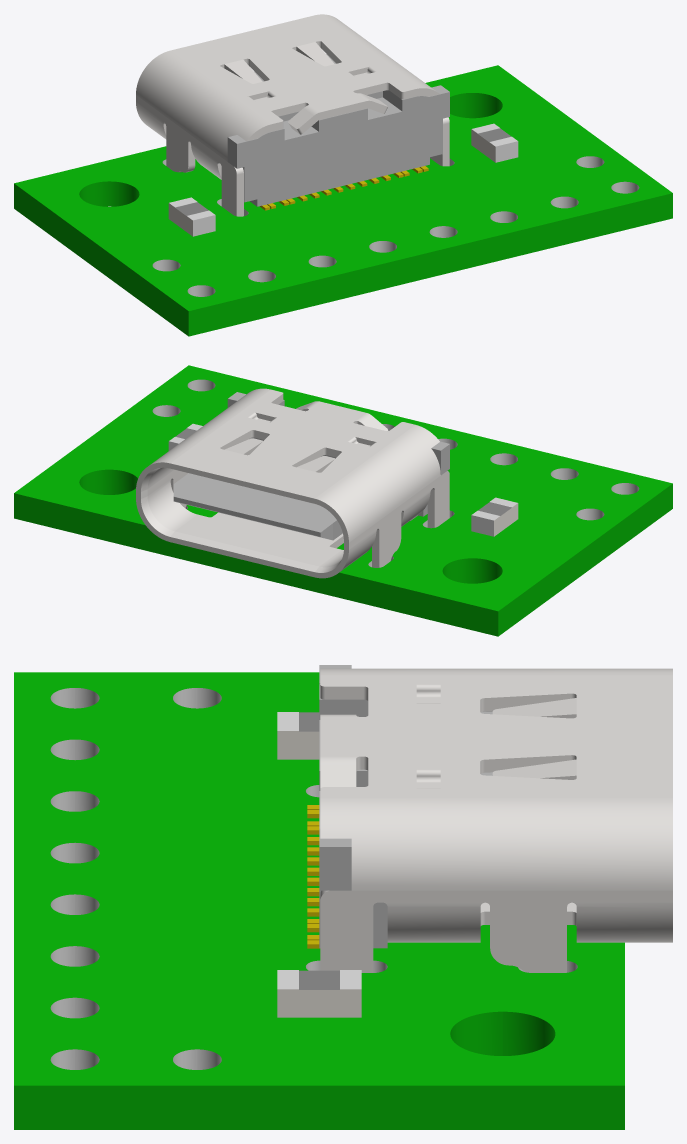
File: pololu-usb-c.glb
The picture shows the model from 3 angles, top to bottom: view 1: azimuth 30°, elevation 25°; view 2: azimuth 150°, elevation 25°; view 3: azimuth 270°, elevation 25°; orthographic projection. The views are drawn at different scales.
Parts seen in each view (by area): view 1: usb-2-0-type-c-connector-breakout-board_1_colour_2, usb-2-0-type-c-connector-breakout-board_1_colour_6, usb-2-0-type-c-connector-breakout-board_1_colour_0, usb-2-0-type-c-connector-breakout-board_1_colour_1, usb-2-0-type-c-connector-breakout-board_1_colour_3, usb-2-0-type-c-connector-breakout-board_1_colour_8, usb-2-0-type-c-connector-breakout-board_1_colour_7, usb-2-0-type-c-connector-breakout-board_1_colour_4; view 2: usb-2-0-type-c-connector-breakout-board_1_colour_2, usb-2-0-type-c-connector-breakout-board_1_colour_6, usb-2-0-type-c-connector-breakout-board_1_colour_0, usb-2-0-type-c-connector-breakout-board_1_colour_1, usb-2-0-type-c-connector-breakout-board_1_colour_7, usb-2-0-type-c-connector-breakout-board_1_colour_3; view 3: usb-2-0-type-c-connector-breakout-board_1_colour_2, usb-2-0-type-c-connector-breakout-board_1_colour_6, usb-2-0-type-c-connector-breakout-board_1_colour_1, usb-2-0-type-c-connector-breakout-board_1_colour_7, usb-2-0-type-c-connector-breakout-board_1_colour_0, usb-2-0-type-c-connector-breakout-board_1_colour_3, usb-2-0-type-c-connector-breakout-board_1_colour_8, usb-2-0-type-c-connector-breakout-board_1_colour_4.
Boxes of the visible parts, box(x1,y1,x2,y2) form: usb-2-0-type-c-connector-breakout-board_1_colour_2: box(14, 65, 672, 336); usb-2-0-type-c-connector-breakout-board_1_colour_6: box(136, 14, 449, 216); usb-2-0-type-c-connector-breakout-board_1_colour_0: box(217, 54, 449, 206); usb-2-0-type-c-connector-breakout-board_1_colour_1: box(152, 123, 639, 296); usb-2-0-type-c-connector-breakout-board_1_colour_3: box(168, 129, 495, 236); usb-2-0-type-c-connector-breakout-board_1_colour_8: box(260, 166, 428, 210); usb-2-0-type-c-connector-breakout-board_1_colour_7: box(163, 41, 449, 174); usb-2-0-type-c-connector-breakout-board_1_colour_4: box(175, 128, 510, 215); usb-2-0-type-c-connector-breakout-board_1_colour_2: box(14, 365, 672, 636); usb-2-0-type-c-connector-breakout-board_1_colour_6: box(136, 388, 449, 578); usb-2-0-type-c-connector-breakout-board_1_colour_0: box(173, 392, 449, 540); usb-2-0-type-c-connector-breakout-board_1_colour_1: box(152, 379, 639, 567); usb-2-0-type-c-connector-breakout-board_1_colour_7: box(141, 394, 403, 572); usb-2-0-type-c-connector-breakout-board_1_colour_3: box(494, 503, 518, 536); usb-2-0-type-c-connector-breakout-board_1_colour_2: box(14, 672, 624, 1129); usb-2-0-type-c-connector-breakout-board_1_colour_6: box(320, 668, 672, 972); usb-2-0-type-c-connector-breakout-board_1_colour_1: box(50, 688, 577, 1069); usb-2-0-type-c-connector-breakout-board_1_colour_7: box(320, 684, 576, 942); usb-2-0-type-c-connector-breakout-board_1_colour_0: box(319, 665, 492, 948); usb-2-0-type-c-connector-breakout-board_1_colour_3: box(277, 731, 361, 1017); usb-2-0-type-c-connector-breakout-board_1_colour_8: box(307, 805, 319, 948); usb-2-0-type-c-connector-breakout-board_1_colour_4: box(299, 712, 339, 989).
Bounding box in the file's own units: 0.0203 × 0.00428 × 0.0137.
